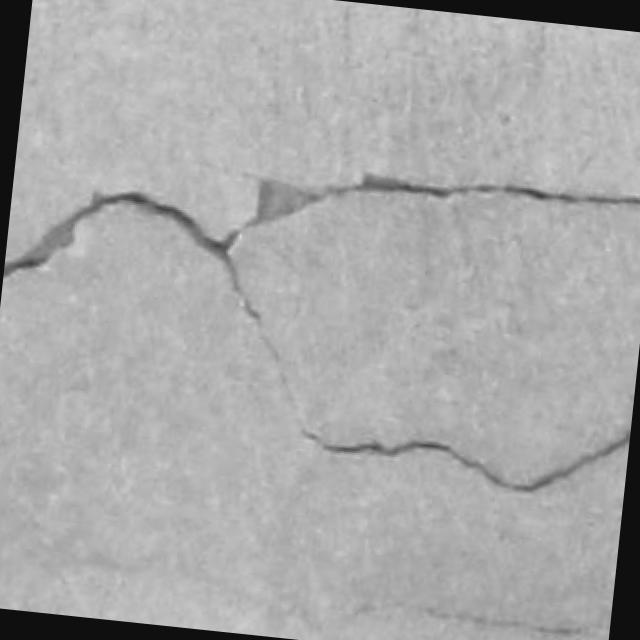crack: (3, 175, 639, 493), (3, 191, 302, 422), (305, 430, 630, 493), (347, 601, 608, 639)
